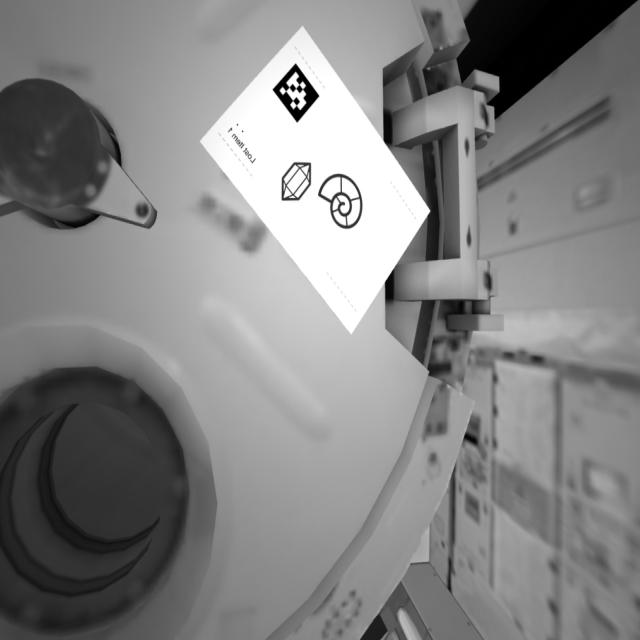crystal: (280, 157, 314, 209)
fossil: (316, 170, 371, 232)
